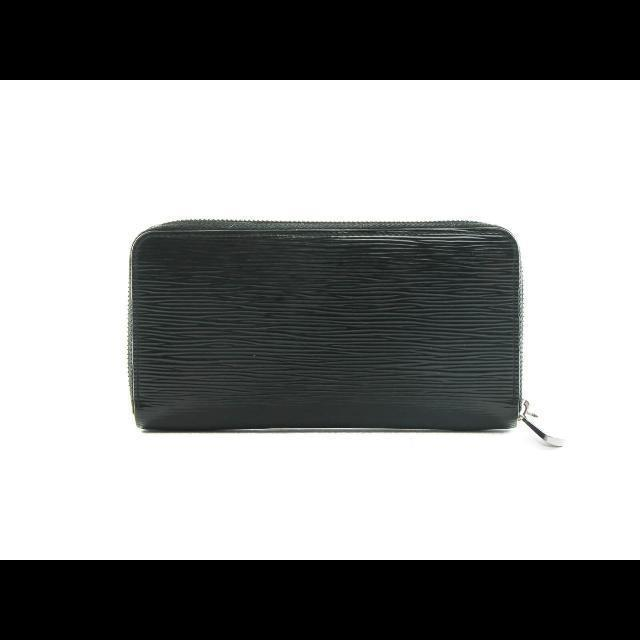Wallet: (128, 221, 560, 444)
